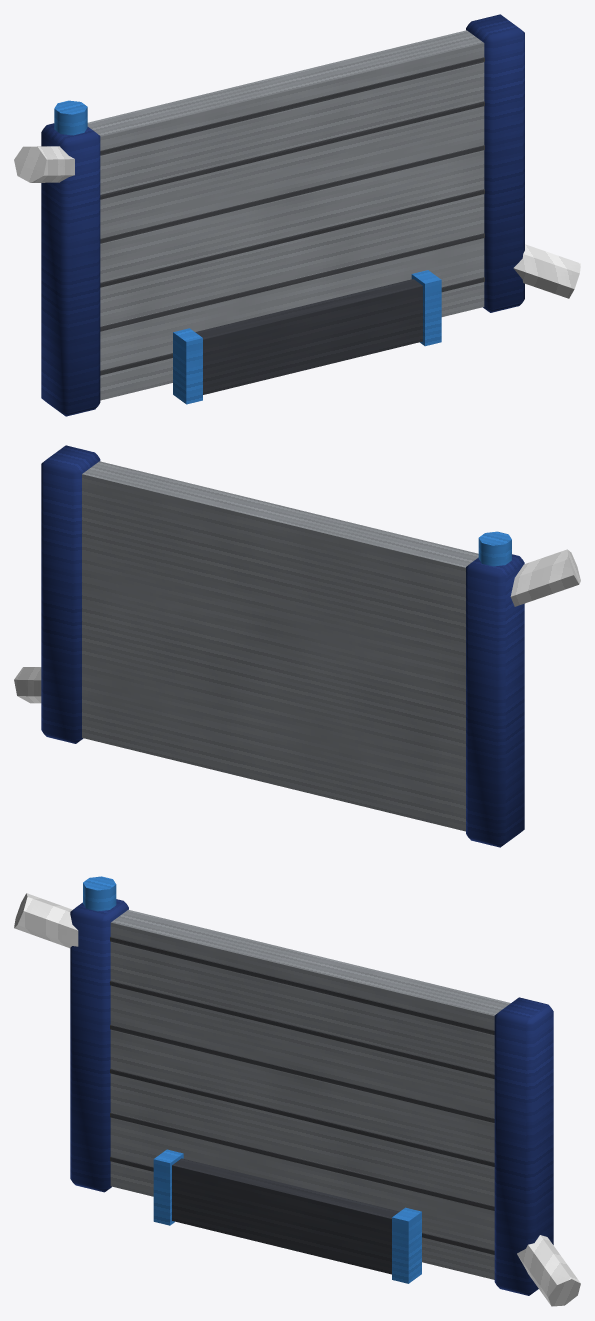
File: radiador_n2.glb
3 views of the same model, one above another, from view 1: azimuth 30°, elevation 25°; view 2: azimuth 150°, elevation 25°; view 3: azimuth 330°, elevation 25° (orthographic).
Visible parts, largest first — view 1: radiador_n2; view 2: radiador_n2; view 3: radiador_n2.
Part boxes in pixels (x1,y1,x2,y2): radiador_n2: (14, 14, 580, 416); radiador_n2: (14, 445, 580, 847); radiador_n2: (14, 876, 580, 1306).
Bounding box in the file's own units: 0.8481 × 0.43 × 0.1135.
Materials: 2 (2 with a texture image).
